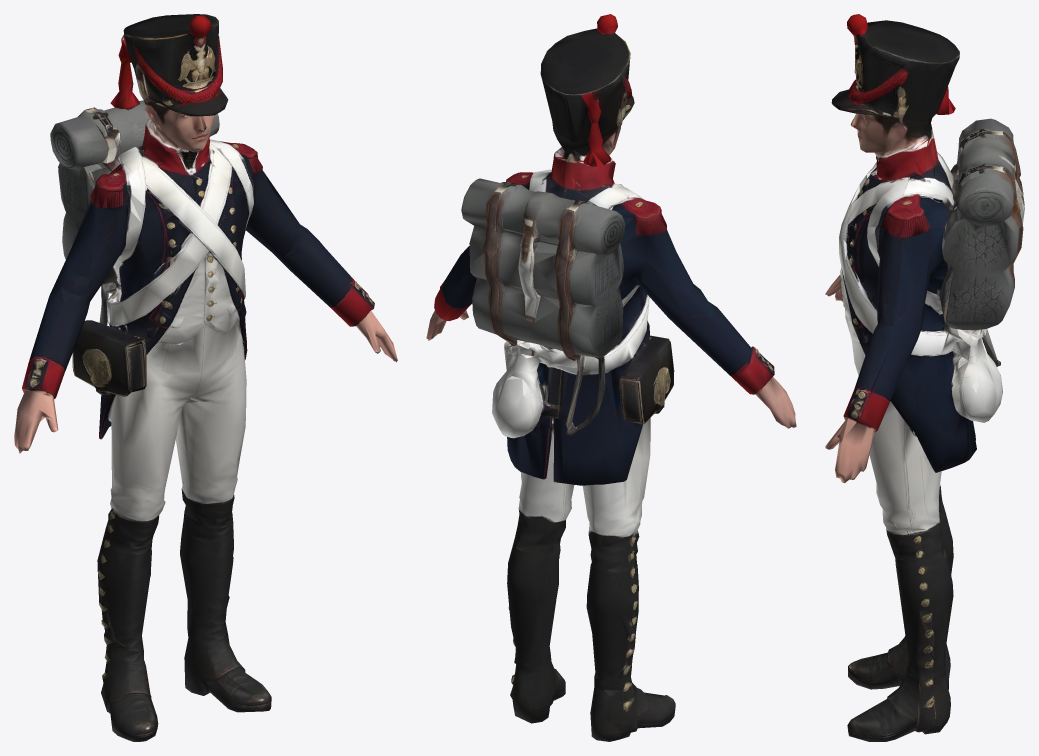
The model's file is 29b4a2e7-eba2-4ca7-a9f3-e22278c8df9e.glb.
3 views of the same model, side by side, from view 1: azimuth 30°, elevation 25°; view 2: azimuth 150°, elevation 25°; view 3: azimuth 270°, elevation 25° (orthographic). The views are drawn at different scales.
Parts seen in each view (by area): view 1: Mesh_0.001; view 2: Mesh_0.001; view 3: Mesh_0.001.
Part boxes in pixels (x1=…): Mesh_0.001: x1=14, y1=14, x2=397, y2=741; Mesh_0.001: x1=426, y1=14, x2=796, y2=741; Mesh_0.001: x1=825, y1=14, x2=1024, y2=741.
Size of the model in its own units: 0.9501 by 1.7 by 0.4454.
Materials: 1 (1 with a texture image).
